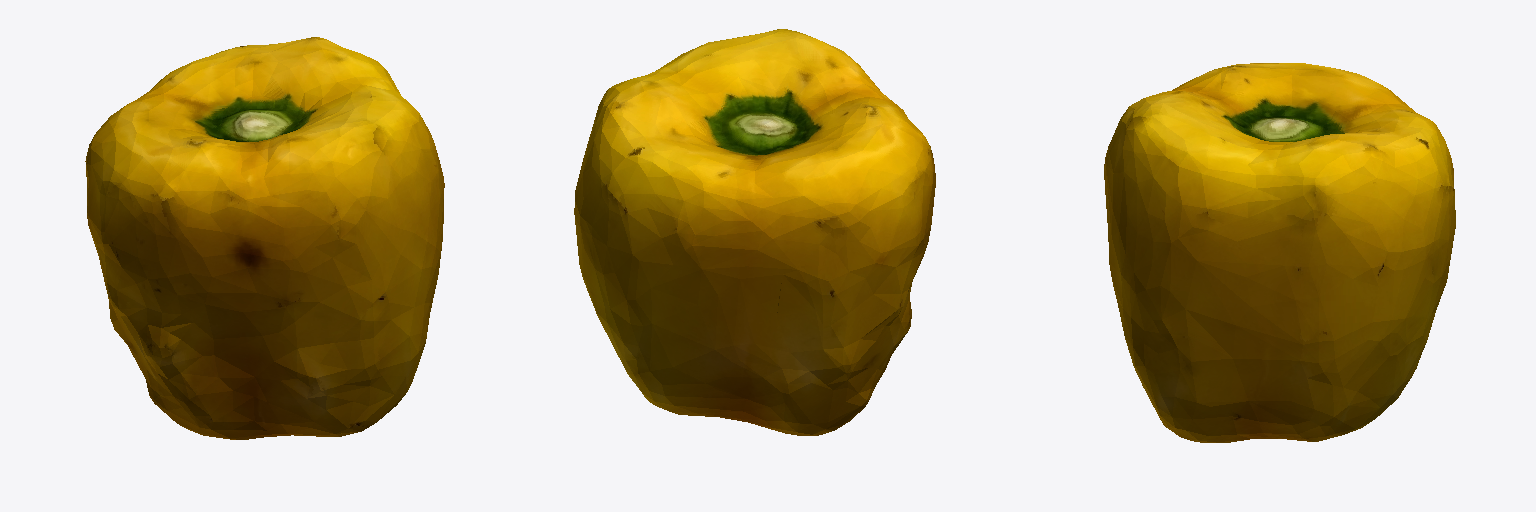
The picture shows the model from 3 angles: view 1: azimuth 30°, elevation 25°; view 2: azimuth 150°, elevation 25°; view 3: azimuth 270°, elevation 25°; orthographic projection.
Parts seen in each view (by area): view 1: yellow_pepper; view 2: yellow_pepper; view 3: yellow_pepper.
Part boxes in pixels (x1,y1,x2,y2): yellow_pepper: (85, 37, 444, 439); yellow_pepper: (574, 29, 935, 435); yellow_pepper: (1104, 63, 1455, 442).
Size of the model in its own units: 0.9738 by 1.02 by 0.9757.
Materials: 1 (1 with a texture image).